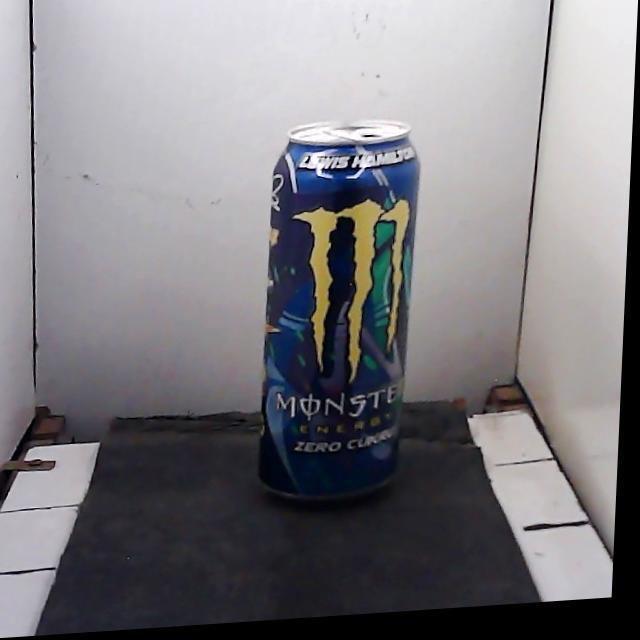metal: (259, 119, 420, 500)
